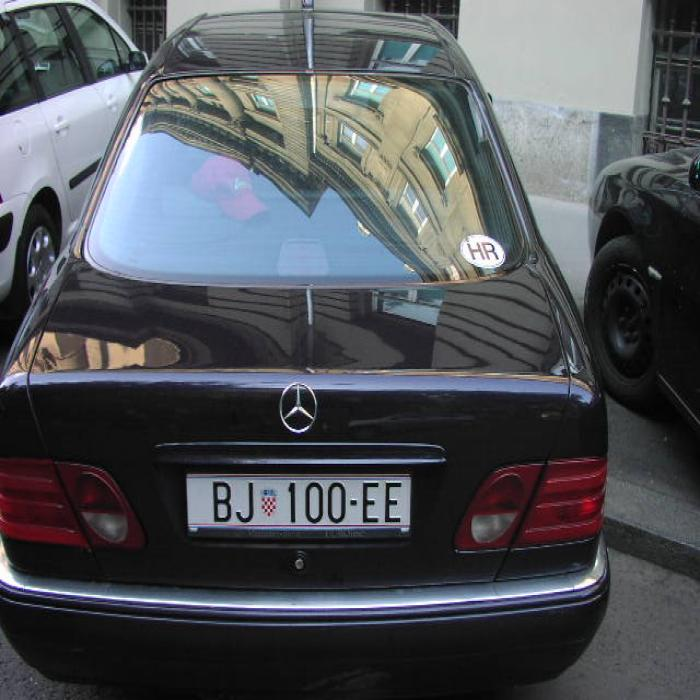number_plate: (183, 474, 408, 526)
